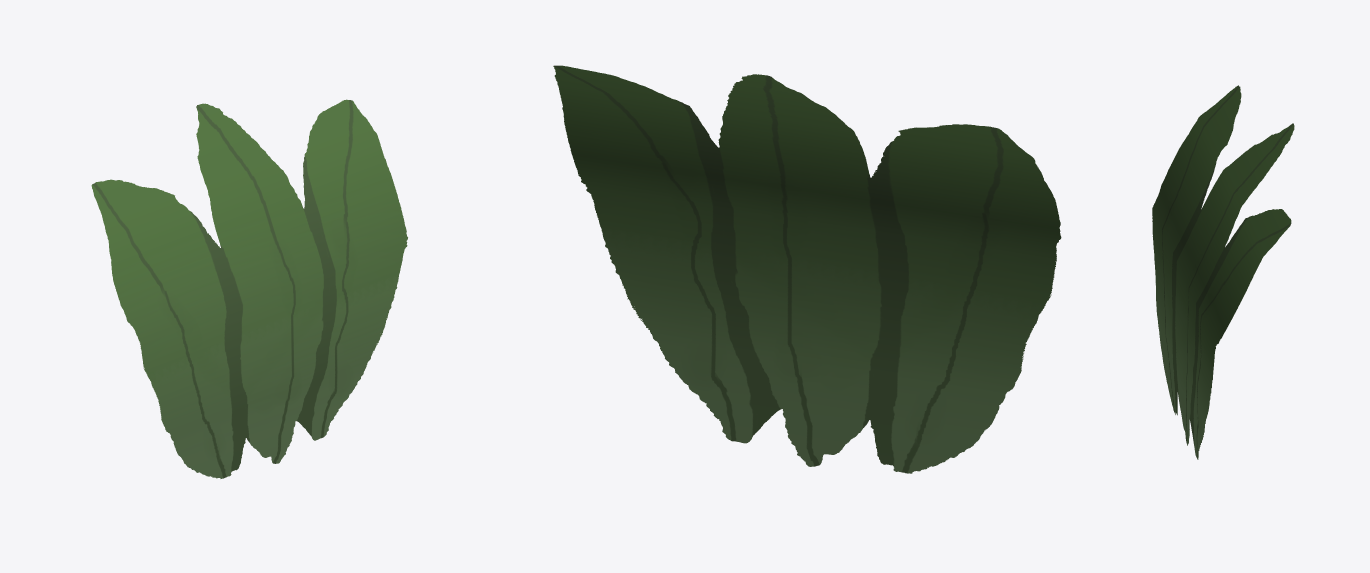
Rendered from leaf01.fbx.
3 views of the same model, side by side, from view 1: azimuth 30°, elevation 25°; view 2: azimuth 150°, elevation 25°; view 3: azimuth 270°, elevation 25° (orthographic). The views are drawn at different scales.
Parts seen in each view (by area): view 1: plant11; view 2: plant11; view 3: plant11.
Boxes of the visible parts, x1,y1,x2,y2 form: plant11: [91, 99, 407, 478]; plant11: [553, 65, 1061, 473]; plant11: [1152, 85, 1294, 459].
Size of the model in its own units: 2.31 by 2.12 by 1.12.
Materials: 1 (1 with a texture image).
